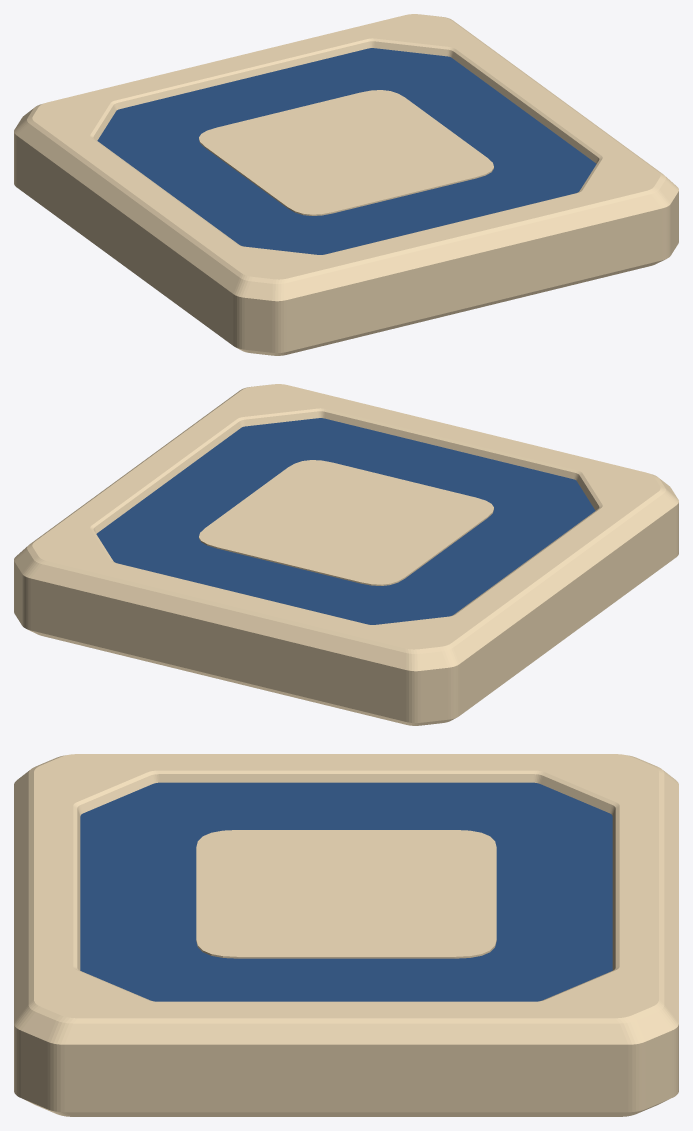
The model's file is direction_tile_blue.glb.
3 views of the same model, one above another, from view 1: azimuth 30°, elevation 25°; view 2: azimuth 150°, elevation 25°; view 3: azimuth 270°, elevation 25° (orthographic). The views are drawn at different scales.
Visible parts, largest first — view 1: direction_tile_blue; view 2: direction_tile_blue; view 3: direction_tile_blue.
Boxes of the visible parts, left/top/right/bottom form: direction_tile_blue: left=14, top=14, right=678, bottom=355; direction_tile_blue: left=14, top=384, right=678, bottom=725; direction_tile_blue: left=14, top=754, right=678, bottom=1116.
Size of the model in its own units: 1 by 0.16 by 1.
